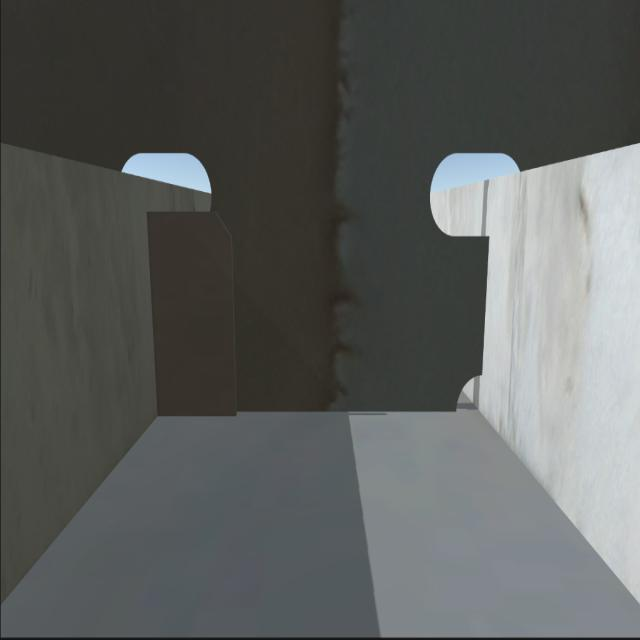fillet_hole: (451, 369, 483, 413)
fillet_yong_jeop_jang: (160, 408, 450, 420)
longi_yong_jeop_jang: (143, 211, 164, 412), (478, 231, 493, 373)
plate_CP03: (157, 209, 240, 417)
